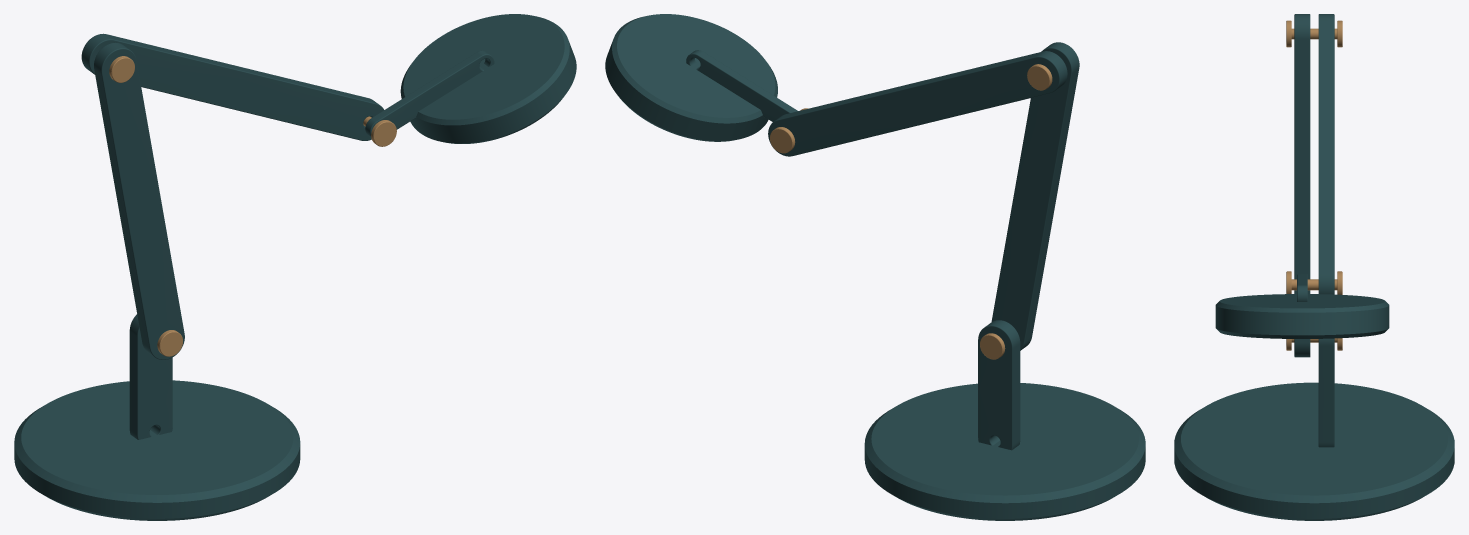
The model's file is hinge-folded.glb.
The picture shows the model from 3 angles, left to right: view 1: azimuth 30°, elevation 25°; view 2: azimuth 150°, elevation 25°; view 3: azimuth 270°, elevation 25°; orthographic projection.
Visible parts, largest first — view 1: Base body, Head housing, Lower arm, Upper arm, Fixed upright, Head neck; view 2: Base body, Head housing, Upper arm, Lower arm, Fixed upright, Head neck; view 3: Base body, Head housing, Lower arm, Upper arm, Fixed upright.
Part boxes in pixels (x1,y1,x2,y2): Base body: [14, 380, 300, 520]; Head housing: [400, 14, 576, 143]; Lower arm: [94, 42, 184, 359]; Upper arm: [81, 33, 383, 140]; Fixed upright: [129, 314, 172, 439]; Head neck: [365, 50, 494, 137]; Base body: [864, 383, 1145, 520]; Head housing: [605, 14, 777, 141]; Upper arm: [768, 51, 1067, 156]; Lower arm: [991, 42, 1079, 350]; Fixed upright: [978, 320, 1020, 450]; Head neck: [686, 50, 797, 121]; Base body: [1174, 382, 1454, 520]; Head housing: [1215, 294, 1389, 338]; Lower arm: [1294, 14, 1310, 357]; Upper arm: [1318, 14, 1334, 294]; Fixed upright: [1318, 338, 1334, 447].
Size of the model in its own units: 0.4448 by 0.3564 by 0.21.
